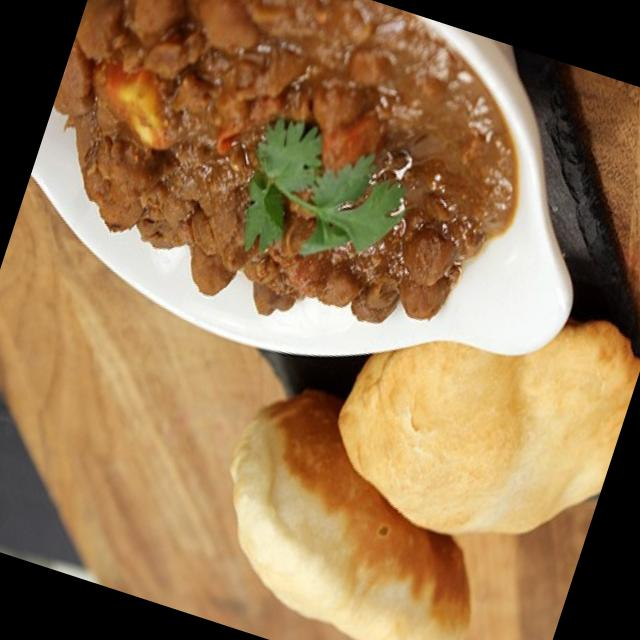Bhatura: (186, 226, 640, 640)
Chole: (19, 0, 518, 370)
